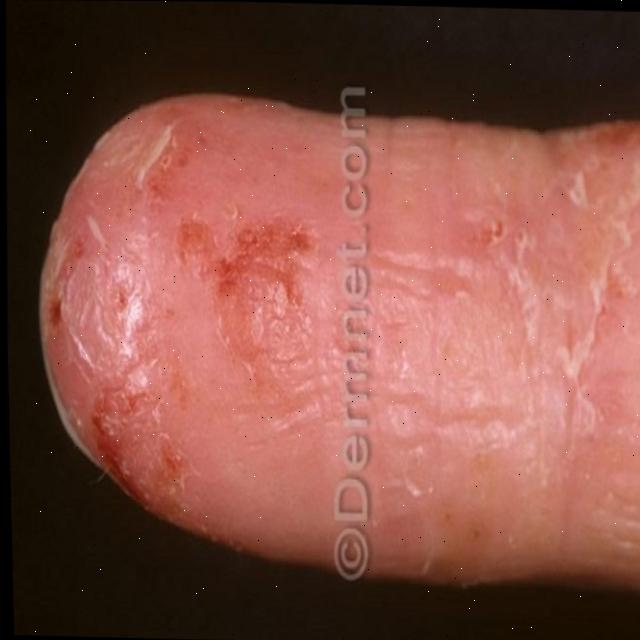Eczema: (61, 121, 317, 515)
